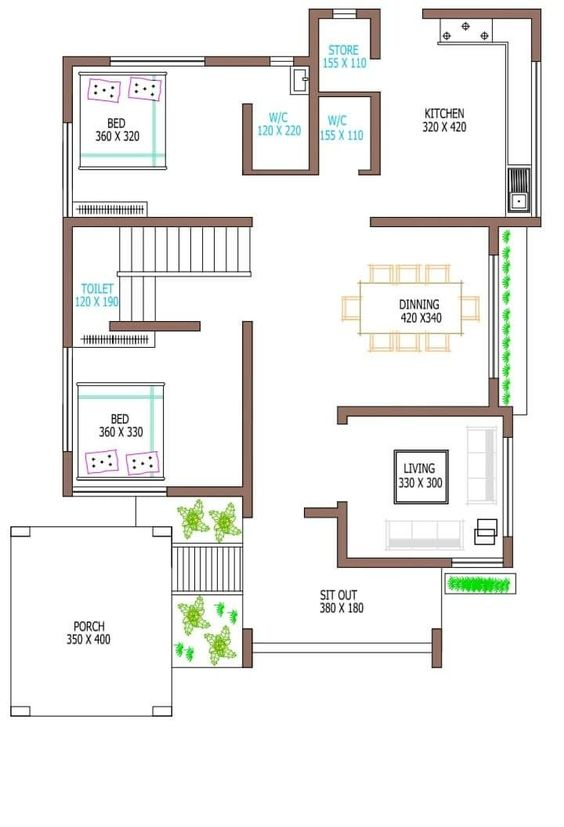room: (370, 8, 542, 229), (61, 320, 254, 496), (62, 57, 252, 225), (336, 406, 514, 567)
window: (529, 61, 542, 217), (500, 436, 514, 537), (62, 346, 73, 452), (71, 485, 168, 497), (62, 122, 73, 217), (110, 57, 204, 68), (450, 557, 505, 569)
